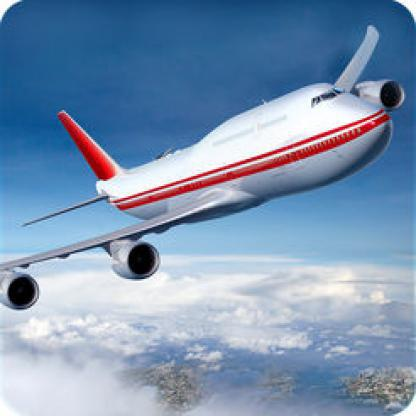CIV_Plane: (0, 25, 406, 310)
